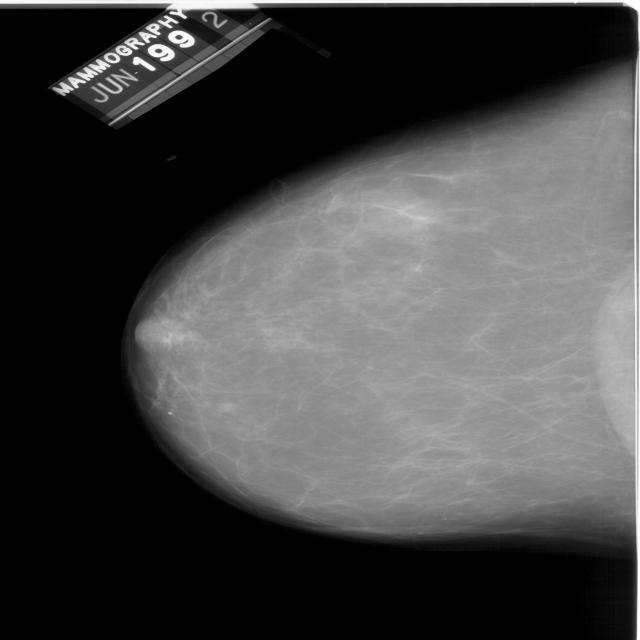normal: (122, 74, 640, 557)
